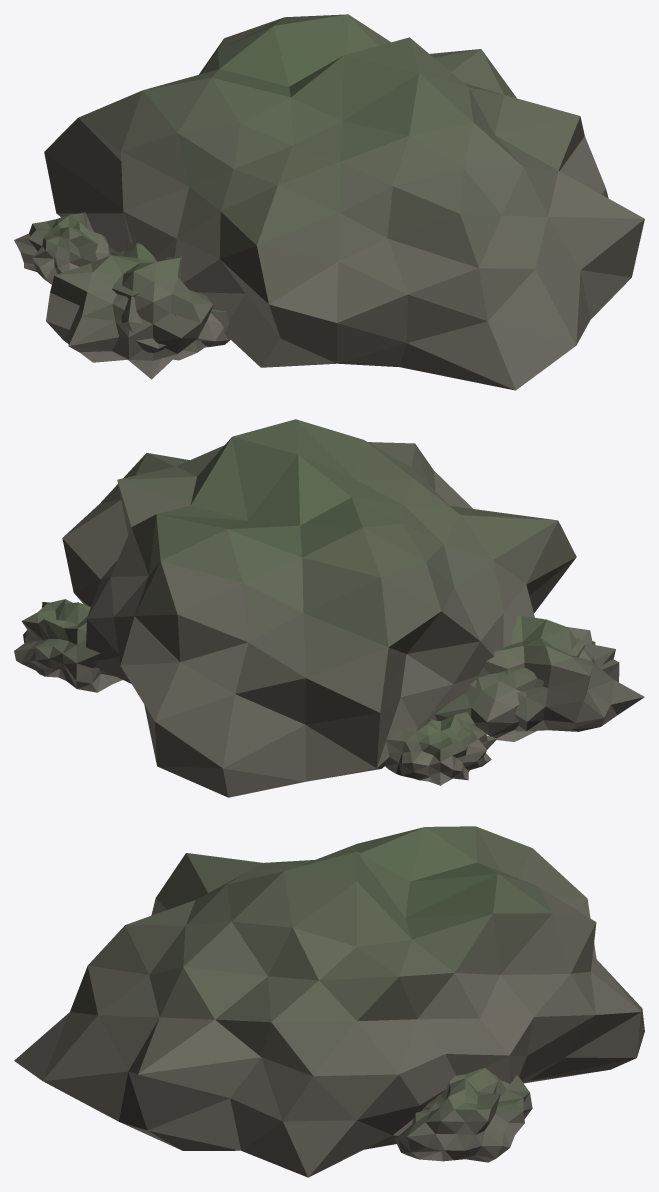
File: rock.glb
3 views of the same model, one above another, from view 1: azimuth 30°, elevation 25°; view 2: azimuth 150°, elevation 25°; view 3: azimuth 270°, elevation 25° (orthographic).
Visible parts, largest first — view 1: rock; view 2: rock; view 3: rock.
Part boxes in pixels (bbox=[...]): rock: bbox=[14, 14, 644, 390]; rock: bbox=[14, 419, 644, 797]; rock: bbox=[14, 826, 644, 1177].
Size of the model in its own units: 5.13 by 2.13 by 5.05.
